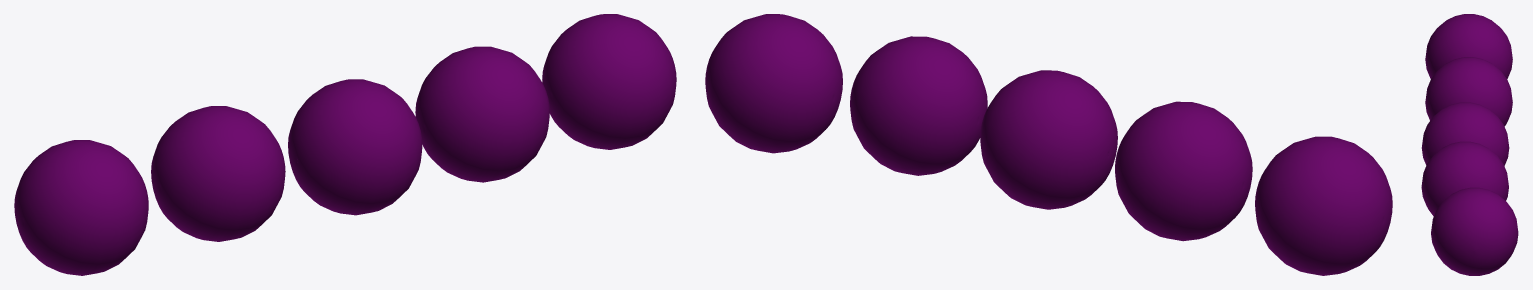
The model's file is litoholens.fbx.
The picture shows the model from 3 angles, left to right: view 1: azimuth 30°, elevation 25°; view 2: azimuth 150°, elevation 25°; view 3: azimuth 270°, elevation 25°; orthographic projection. The views are drawn at different scales.
Parts seen in each view (by area): view 1: Model; view 2: Model; view 3: Model.
Part boxes in pixels (box(x1,y1,x2,y2)): Model: box(14, 14, 676, 275); Model: box(705, 14, 1392, 275); Model: box(1421, 14, 1518, 275).
Size of the model in its own units: 54.19 by 10.43 by 10.78.
